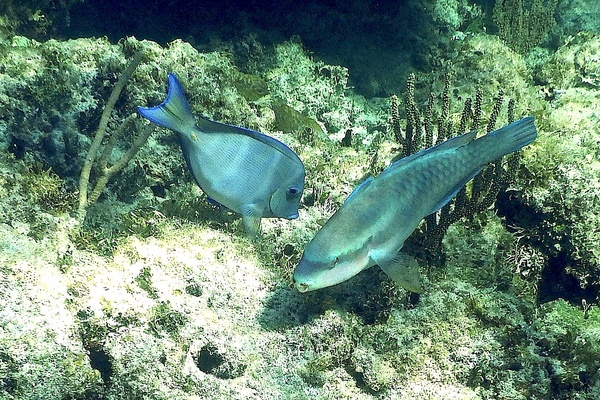Acanthurus_coeruleus: (294, 116, 544, 296), (132, 72, 303, 237)
